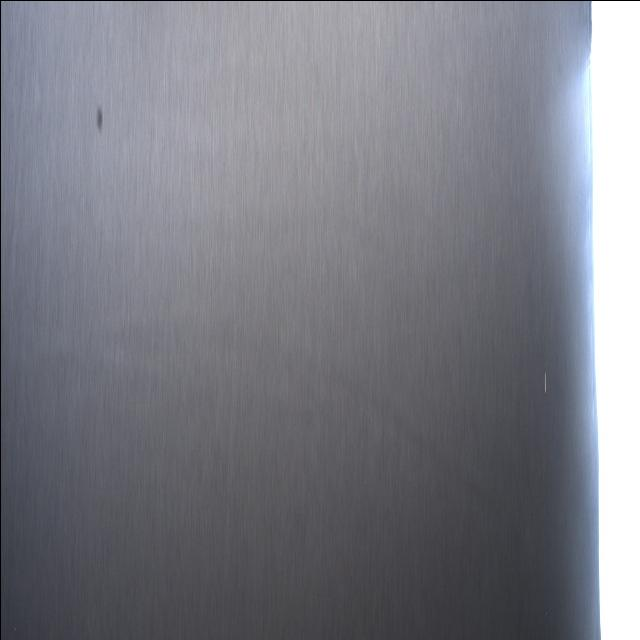crease: (94, 310, 504, 562), (10, 38, 29, 250)
